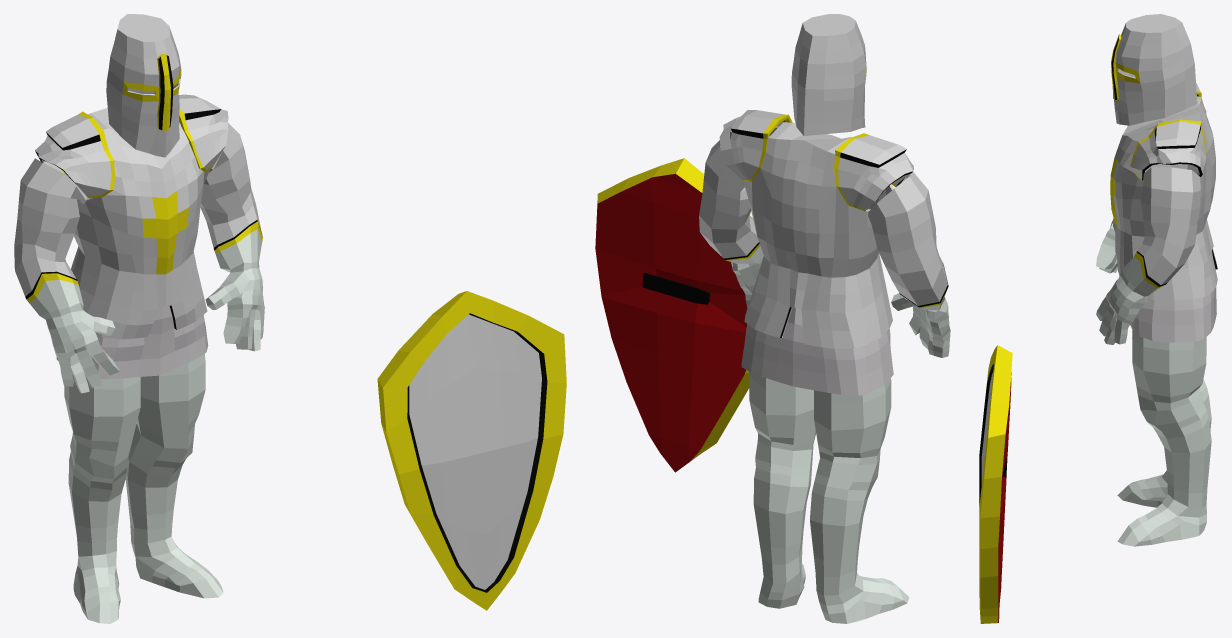
File: V_Medieval01_Armadura.fbx
3 views of the same model, side by side, from view 1: azimuth 30°, elevation 25°; view 2: azimuth 150°, elevation 25°; view 3: azimuth 270°, elevation 25° (orthographic). The views are drawn at different scales.
Visible parts, largest first — view 1: Escudera, Peitoral, Pernoca, Braço.001, Braço, Capacete, Sainha; view 2: Escudera, Peitoral, Pernoca, Braço.001, Capacete, Sainha, Braço; view 3: Pernoca, Peitoral, Braço, Capacete, Escudera, Sainha, Braço.001.
Part boxes in pixels (<box>): Escudera: <box>377,291,566,610</box>; Peitoral: <box>35,94,228,339</box>; Pernoca: <box>64,306,223,623</box>; Braço.001: <box>14,158,119,393</box>; Braço: <box>200,123,264,351</box>; Capacete: <box>106,14,181,157</box>; Sainha: <box>56,305,208,378</box>; Escudera: <box>595,158,752,472</box>; Peitoral: <box>719,110,913,348</box>; Pernoca: <box>749,307,909,623</box>; Braço.001: <box>868,172,950,357</box>; Capacete: <box>791,14,866,135</box>; Sainha: <box>741,307,893,395</box>; Braço: <box>699,140,763,307</box>; Pernoca: <box>1117,330,1211,546</box>; Peitoral: <box>1110,83,1217,300</box>; Braço: <box>1096,167,1200,344</box>; Capacete: <box>1111,14,1197,125</box>; Escudera: <box>979,345,1012,623</box>; Sainha: <box>1130,250,1216,342</box>; Braço.001: <box>1096,218,1117,273</box>.
Size of the model in its own units: 152 by 187 by 81.3.
